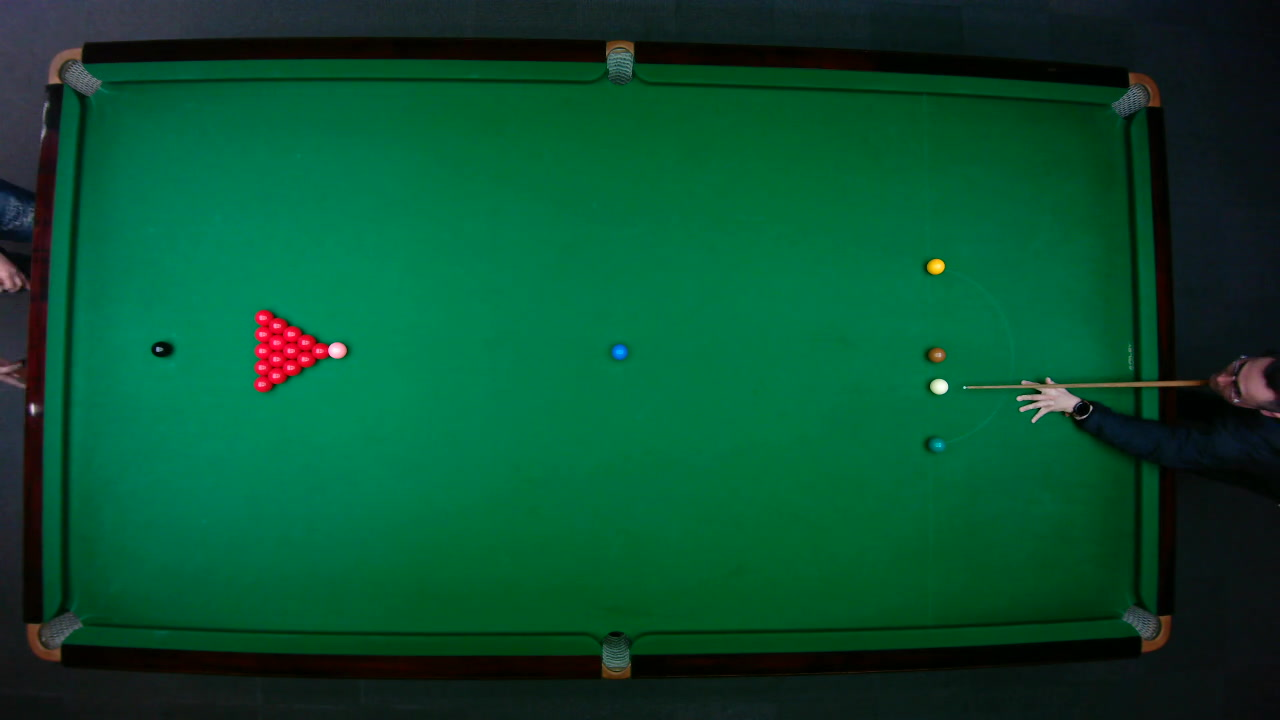bag: (25, 609, 83, 661), (46, 47, 101, 96), (1108, 71, 1161, 118), (1119, 604, 1171, 651), (600, 629, 630, 680), (605, 39, 633, 85)
black: (149, 340, 171, 357)
blue: (610, 342, 628, 360)
brown: (926, 346, 946, 362)
cue: (959, 378, 1210, 390)
green: (926, 435, 946, 453)
pink: (326, 340, 348, 359)
red: (253, 308, 276, 326), (267, 317, 289, 335), (295, 334, 317, 352), (252, 376, 275, 393), (311, 341, 331, 360), (253, 342, 274, 360), (295, 352, 317, 369), (266, 367, 288, 384), (252, 360, 274, 376), (283, 325, 303, 342), (267, 335, 287, 352), (282, 343, 302, 360), (253, 326, 274, 342), (282, 360, 301, 377), (267, 352, 287, 368)
white: (927, 377, 948, 395)
yellow: (925, 256, 945, 274)
zone: (925, 266, 1014, 445)
